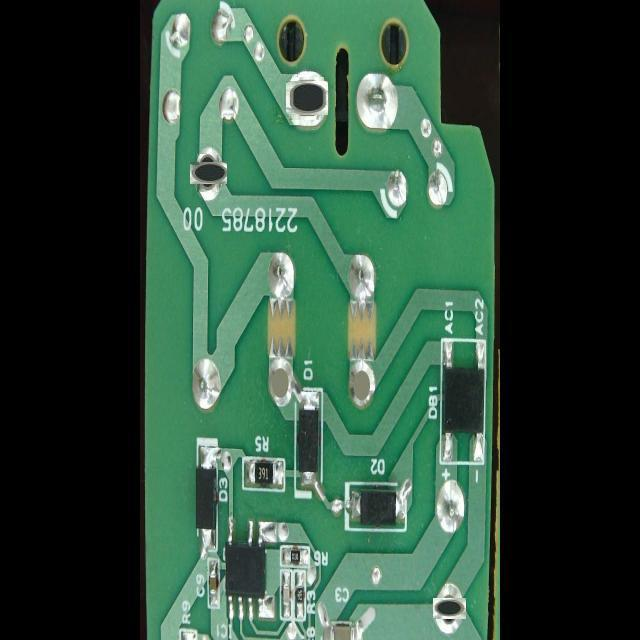damged: (288, 79, 326, 118), (193, 158, 223, 188), (436, 595, 463, 623)
